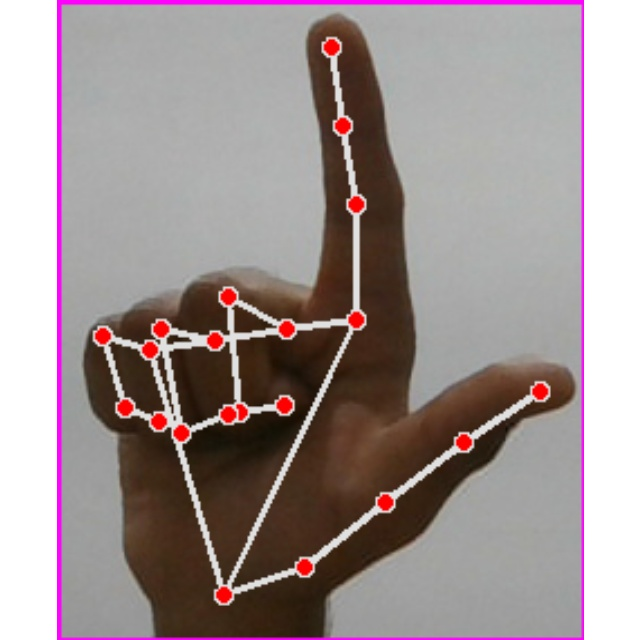L: (57, 0, 584, 640)
